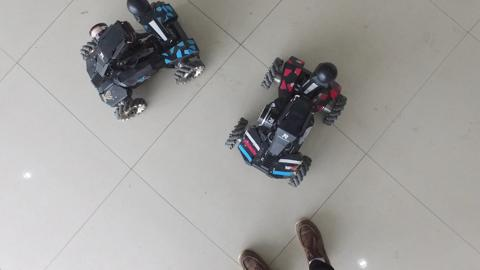chariot: (219, 37, 355, 196), (59, 1, 217, 129)
